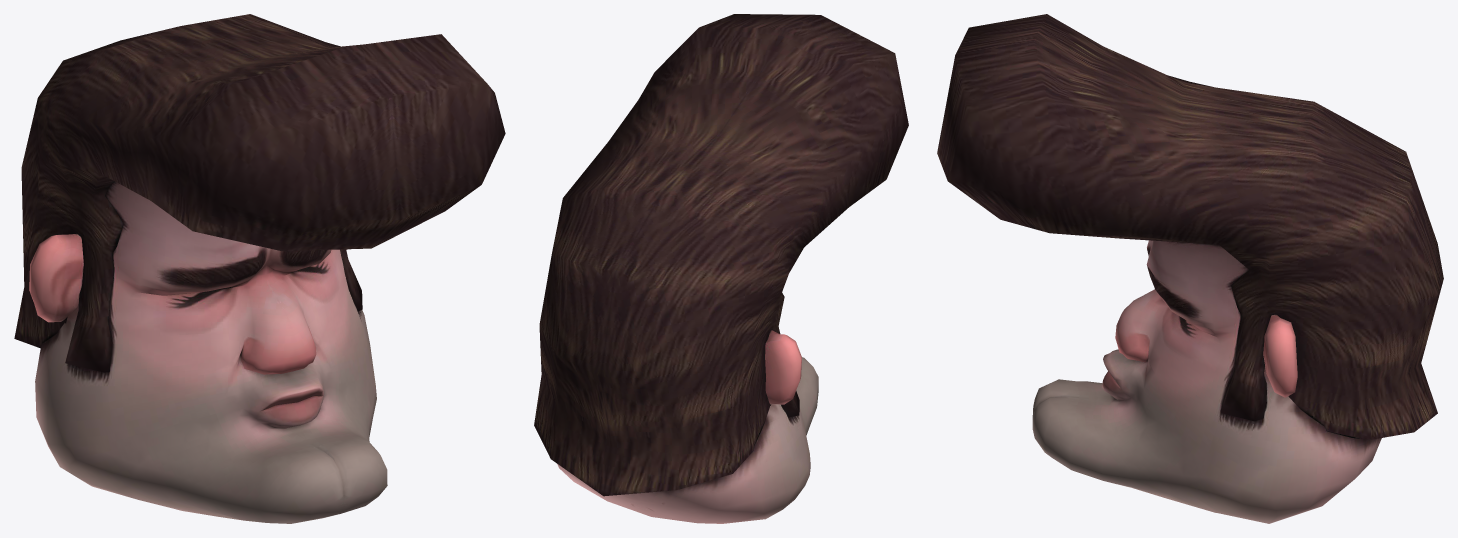
Rendered from avatar1-head.obj.
The picture shows the model from 3 angles, left to right: view 1: azimuth 30°, elevation 25°; view 2: azimuth 150°, elevation 25°; view 3: azimuth 270°, elevation 25°; orthographic projection. The views are drawn at different scales.
Visible parts, largest first — view 1: head; view 2: head; view 3: head.
Boxes of the visible parts, x1,y1,x2,y2 form: head: (14, 14, 505, 523); head: (534, 14, 908, 523); head: (937, 14, 1443, 523).
Bounding box in the file's own units: 0.2966 × 0.4621 × 0.4624.
1 material, 1 textured.
